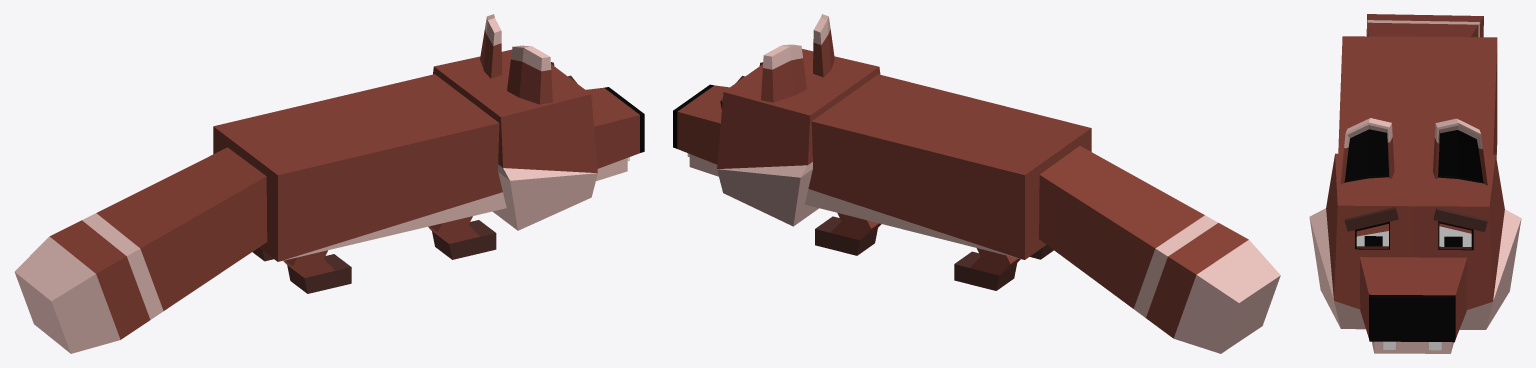
Rendered from Raposo Melhorado.fbx.
3 views of the same model, side by side, from view 1: azimuth 30°, elevation 25°; view 2: azimuth 150°, elevation 25°; view 3: azimuth 270°, elevation 25° (orthographic). The views are drawn at different scales.
Visible parts, largest first — view 1: Cube.061; view 2: Cube.061; view 3: Cube.061.
Boxes of the visible parts, left/top/right/bottom form: Cube.061: left=14, top=14, right=644, bottom=353; Cube.061: left=673, top=14, right=1280, bottom=353; Cube.061: left=1309, top=14, right=1521, bottom=353.
Bounding box in the file's own units: 221 × 71.66 × 59.12.
